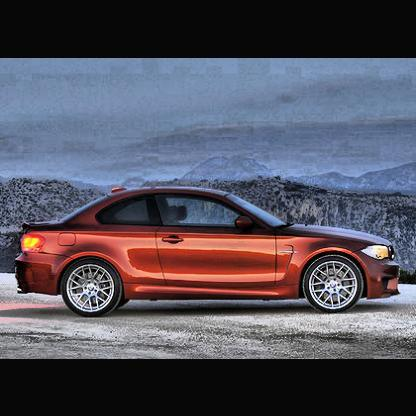BMW 1 Series Coupe 2012: (15, 165, 415, 329)
